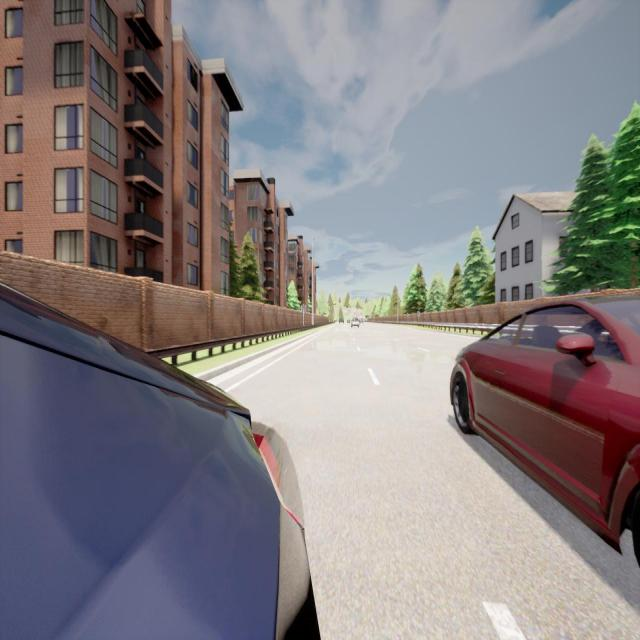Traffic_Signs: (302, 305, 306, 313), (416, 311, 421, 317)
Vehicle: (0, 279, 320, 640), (450, 295, 640, 563), (350, 317, 360, 328), (359, 317, 364, 324), (339, 317, 344, 323), (346, 319, 351, 324)
